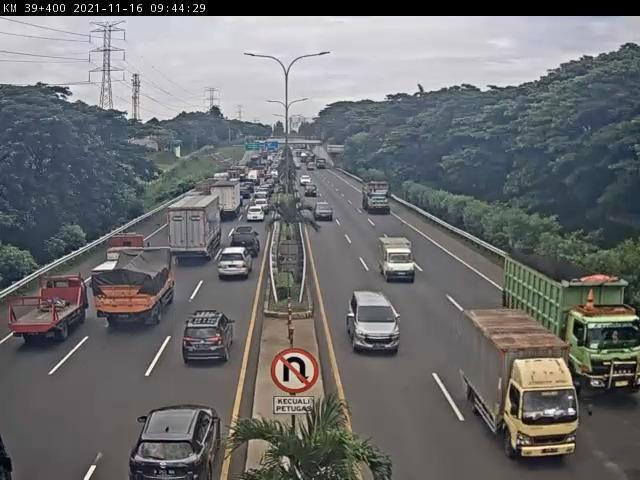car: (347, 292, 401, 355), (182, 314, 237, 369), (219, 248, 251, 280), (232, 227, 260, 257), (315, 202, 336, 222), (246, 208, 265, 223)
truck: (502, 252, 640, 390), (460, 310, 580, 460), (92, 250, 175, 332), (2, 279, 84, 345), (168, 198, 219, 261), (85, 236, 146, 283), (378, 237, 417, 285), (362, 177, 393, 217), (211, 184, 240, 218)
